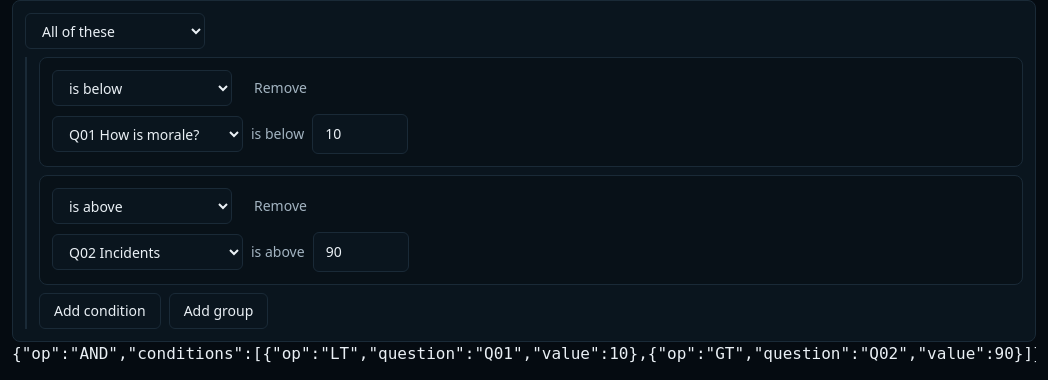
Scenario: ConditionEditor: groups › wraps one condition in none of, and leaves it with exactly one
This screenshot has width=1048, height=380.
Step 1. Select "None of these" in the 1st dropdown named "Condition type" → (115, 31), box [25,13,205,49]
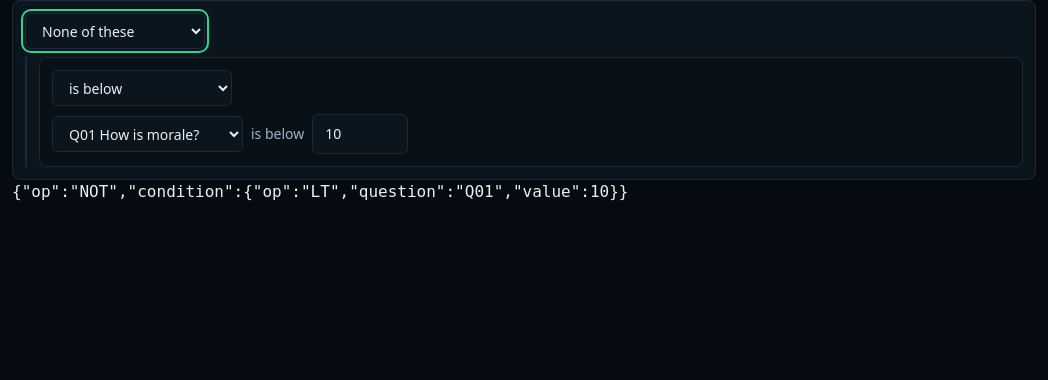
Expected: the button "Add condition" is gone
